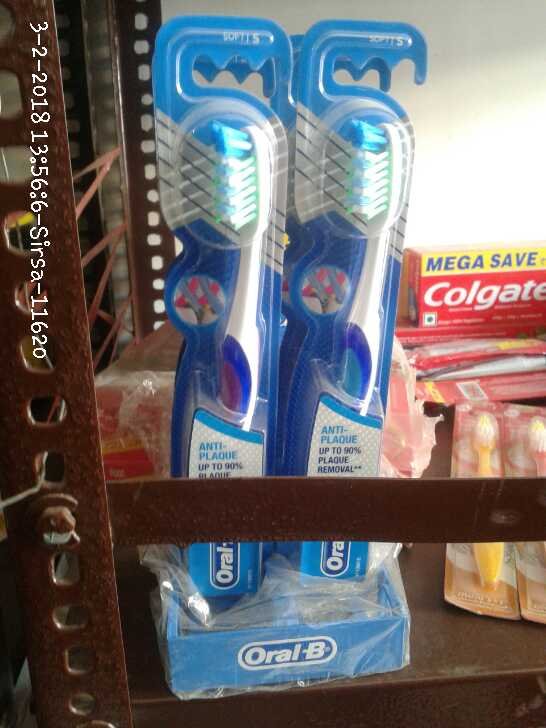oralb: (293, 105, 396, 557), (175, 118, 275, 578)
